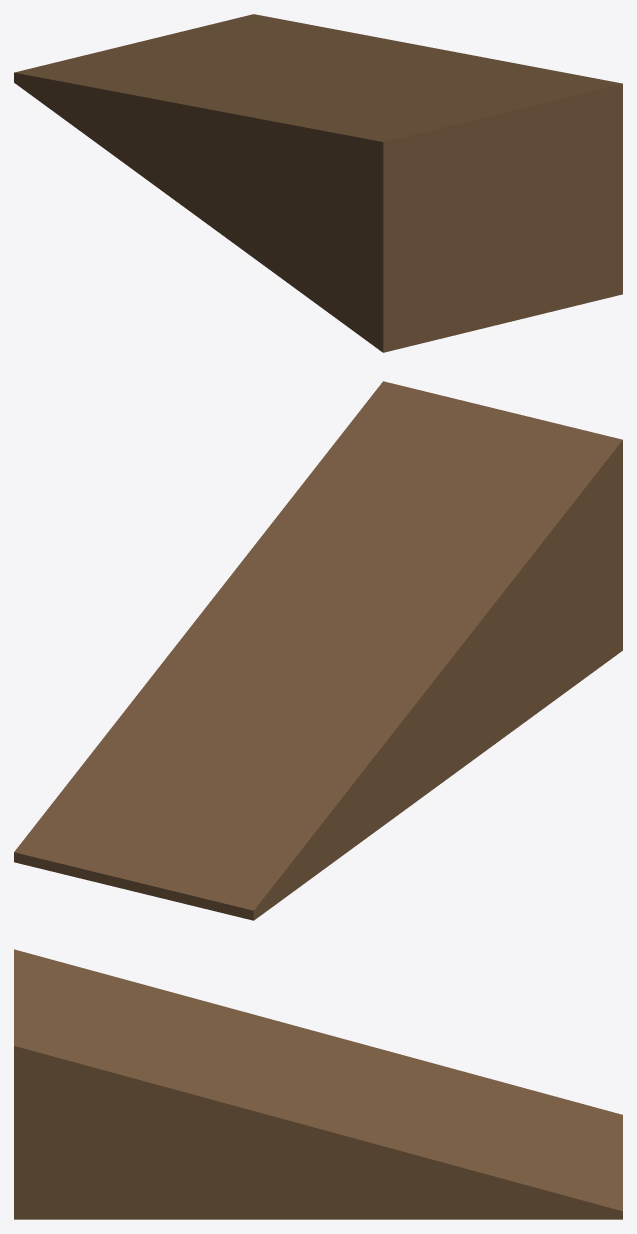
The model's file is road_dirt_ramp_lod2.glb.
3 views of the same model, one above another, from view 1: azimuth 30°, elevation 25°; view 2: azimuth 150°, elevation 25°; view 3: azimuth 270°, elevation 25° (orthographic). The views are drawn at different scales.
Visible parts, largest first — view 1: body; view 2: body; view 3: body.
Part boxes in pixels (x1=…): body: x1=14, y1=14, x2=622, y2=352; body: x1=14, y1=381, x2=622, y2=920; body: x1=14, y1=949, x2=622, y2=1219.
Size of the model in its own units: 3 by 2.52 by 8.
